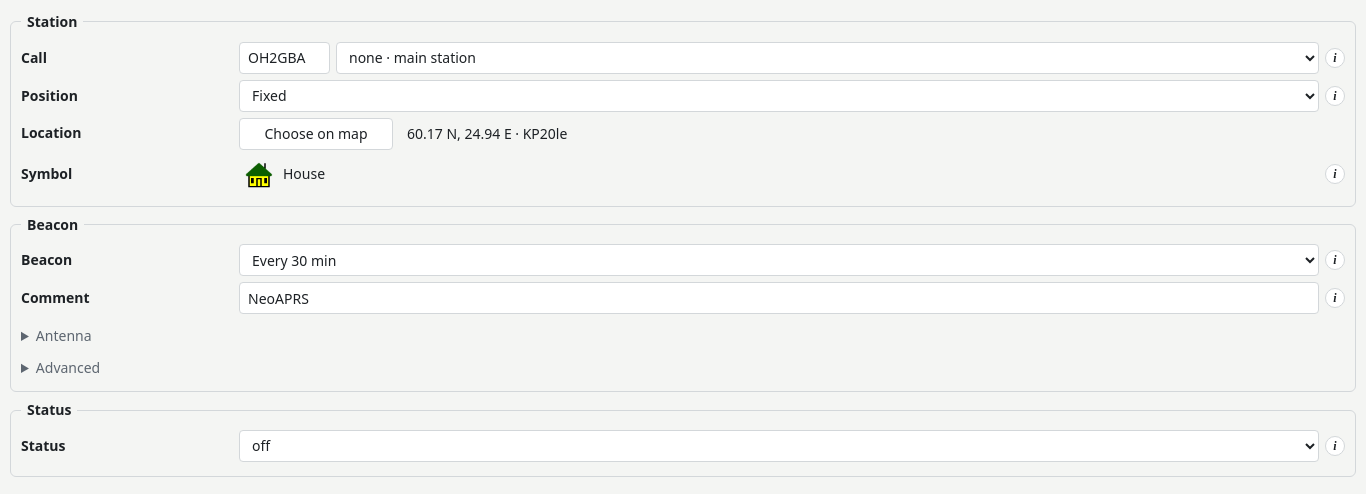
Test: SettingsForm › the position choice of the Station group of the My station tab › has the (i) of the choice, which says what each answer makes the station
Click the button with class "info-toggle" in the row of "Position": (1335, 96) [1325,86,1345,106]
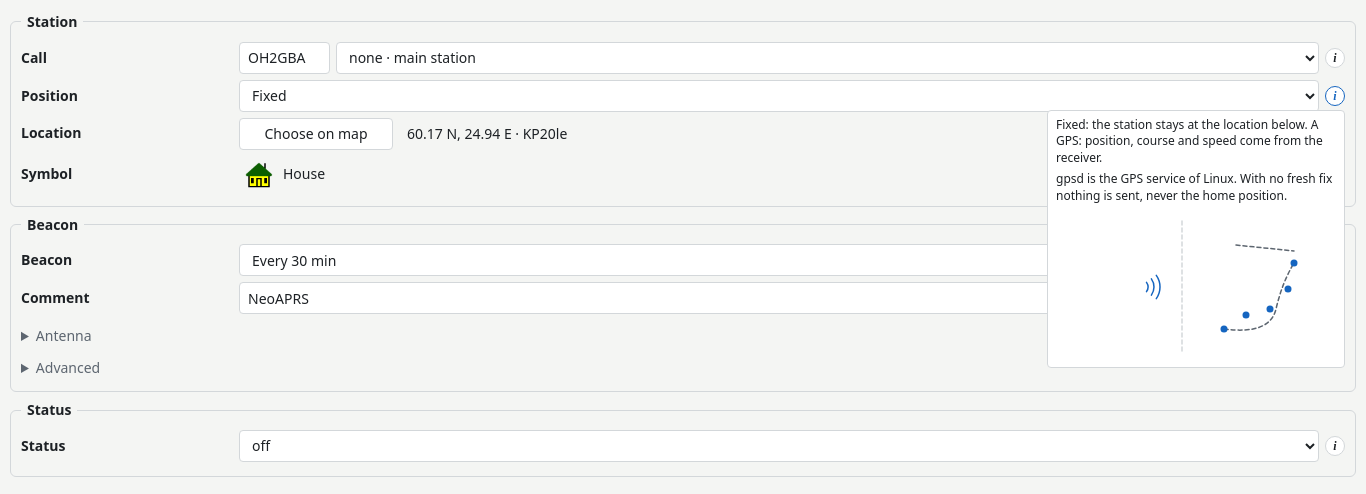
Check: the element with class "info-text" shows "Fixed: the station stays at the location below", box [1056,116,1323,166]
Check: the element with class "info-text" shows "A GPS: position, course and speed come from the receiver", box [1056,116,1323,166]
